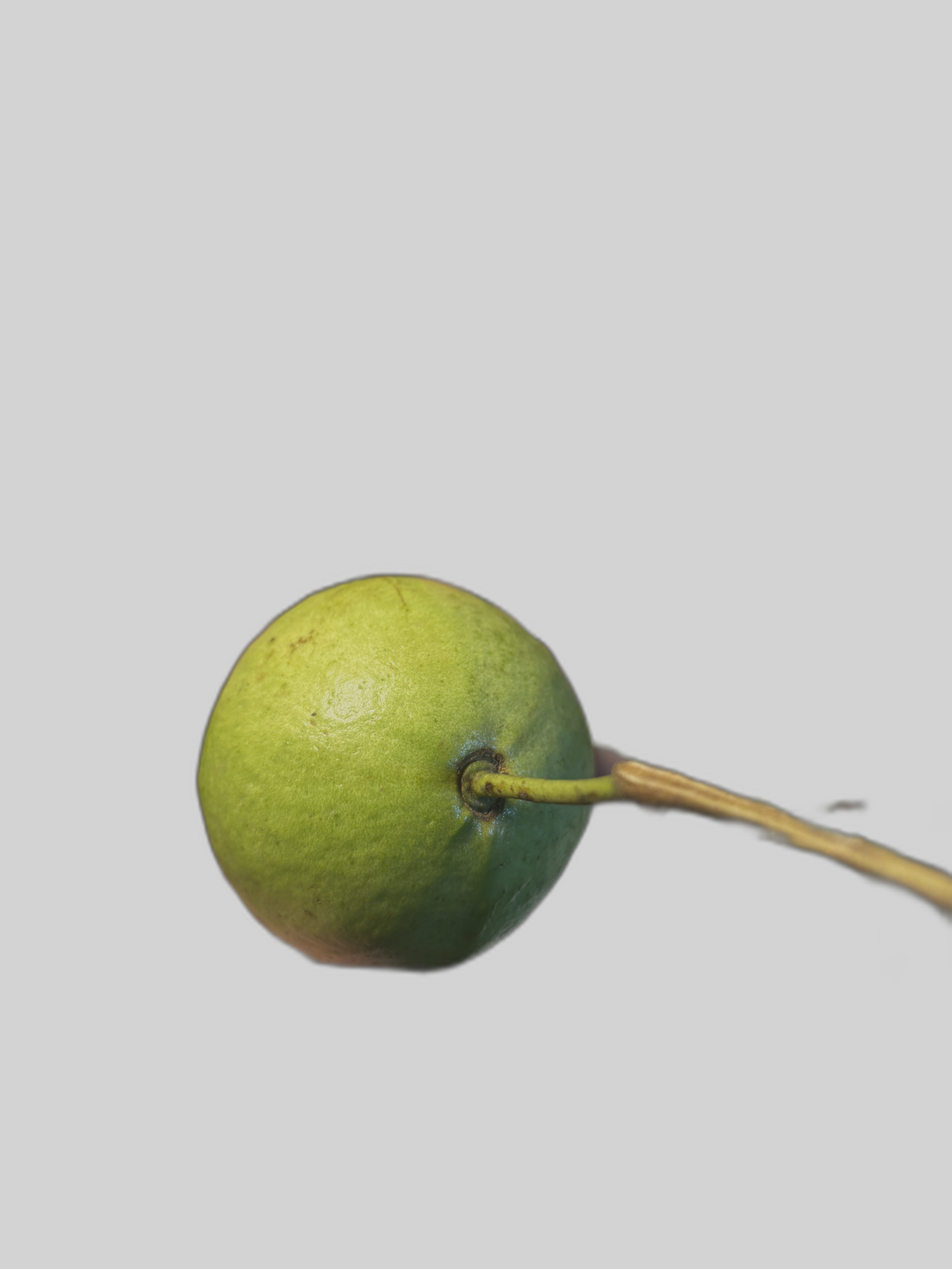guava: (44, 84, 873, 1168)
